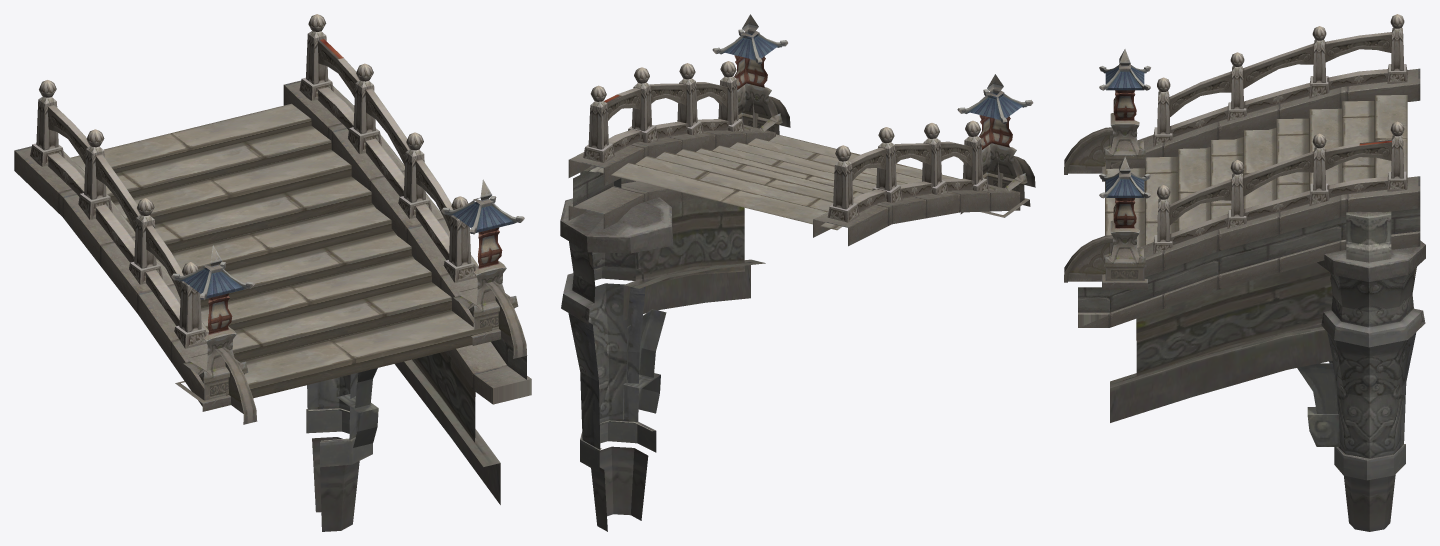
File: cj_luoyang_qiao03_55_32_6793out.fbx
3 views of the same model, side by side, from view 1: azimuth 30°, elevation 25°; view 2: azimuth 150°, elevation 25°; view 3: azimuth 270°, elevation 25° (orthographic). The views are drawn at different scales.
Parts seen in each view (by area): view 1: 0002_cj_luoyang_qiao03, 0001_cj_luoyang_qiao03, 0000_cj_luoyang_qiao03; view 2: 0001_cj_luoyang_qiao03, 0000_cj_luoyang_qiao03, 0002_cj_luoyang_qiao03; view 3: 0001_cj_luoyang_qiao03, 0000_cj_luoyang_qiao03, 0002_cj_luoyang_qiao03.
Boxes of the visible parts, x1,y1,x2,y2 form: 0002_cj_luoyang_qiao03: (70, 103, 491, 398); 0001_cj_luoyang_qiao03: (14, 80, 531, 531); 0000_cj_luoyang_qiao03: (30, 14, 476, 348); 0001_cj_luoyang_qiao03: (560, 14, 1035, 531); 0000_cj_luoyang_qiao03: (583, 61, 989, 222); 0002_cj_luoyang_qiao03: (597, 134, 958, 230); 0001_cj_luoyang_qiao03: (1064, 49, 1425, 531); 0000_cj_luoyang_qiao03: (1153, 14, 1407, 254); 0002_cj_luoyang_qiao03: (1105, 95, 1407, 247).
Bounding box in the file's own units: 8.1 × 10.83 × 8.79.
